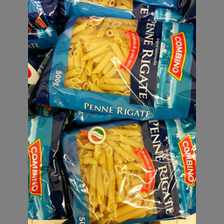pasta: (31, 16, 195, 119), (60, 117, 196, 224)
